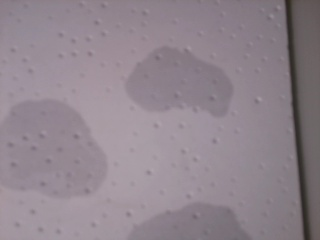Water_detected: (14, 106, 94, 186), (129, 50, 201, 101), (134, 203, 208, 240)
